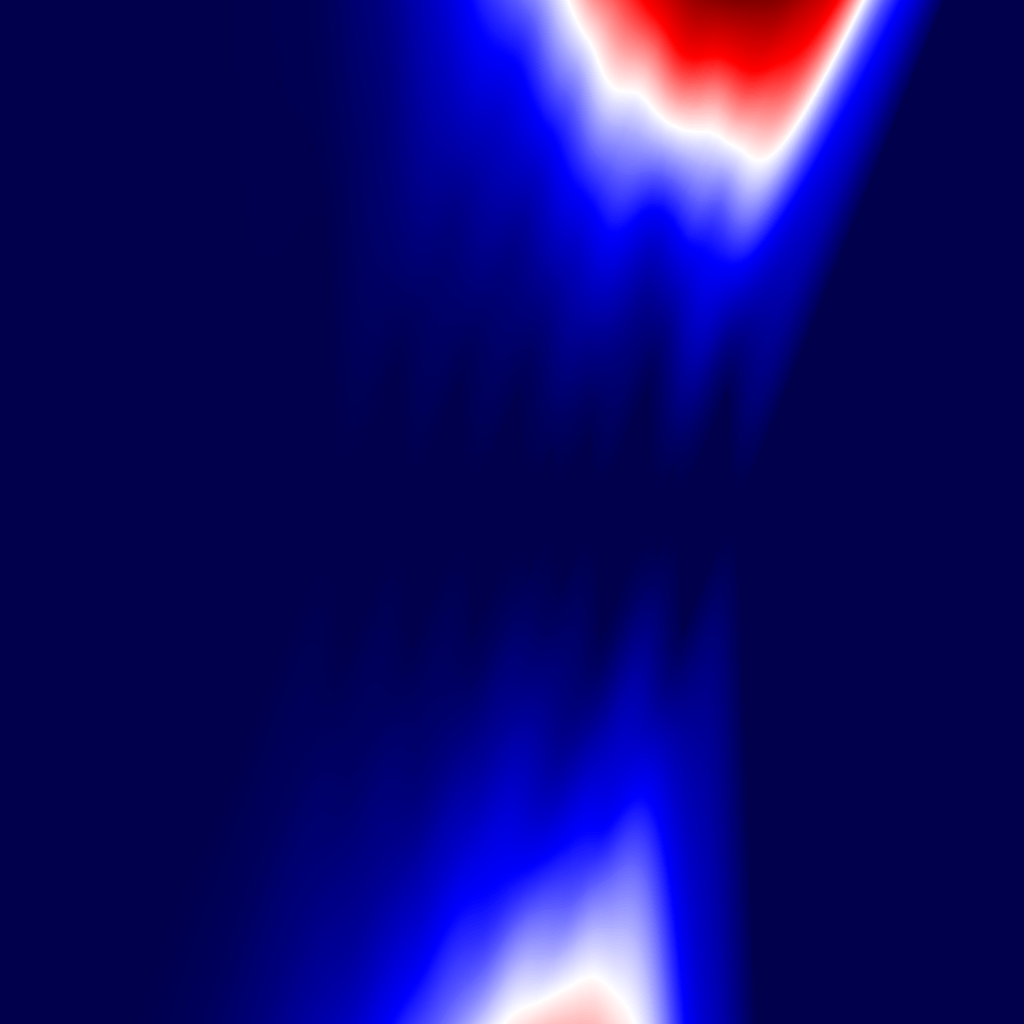diamond: (209, 215, 341, 809), (341, 361, 408, 663), (409, 374, 470, 650), (599, 380, 657, 644), (680, 382, 738, 642), (470, 384, 527, 640), (560, 425, 598, 599), (527, 441, 558, 583), (657, 461, 679, 563)
